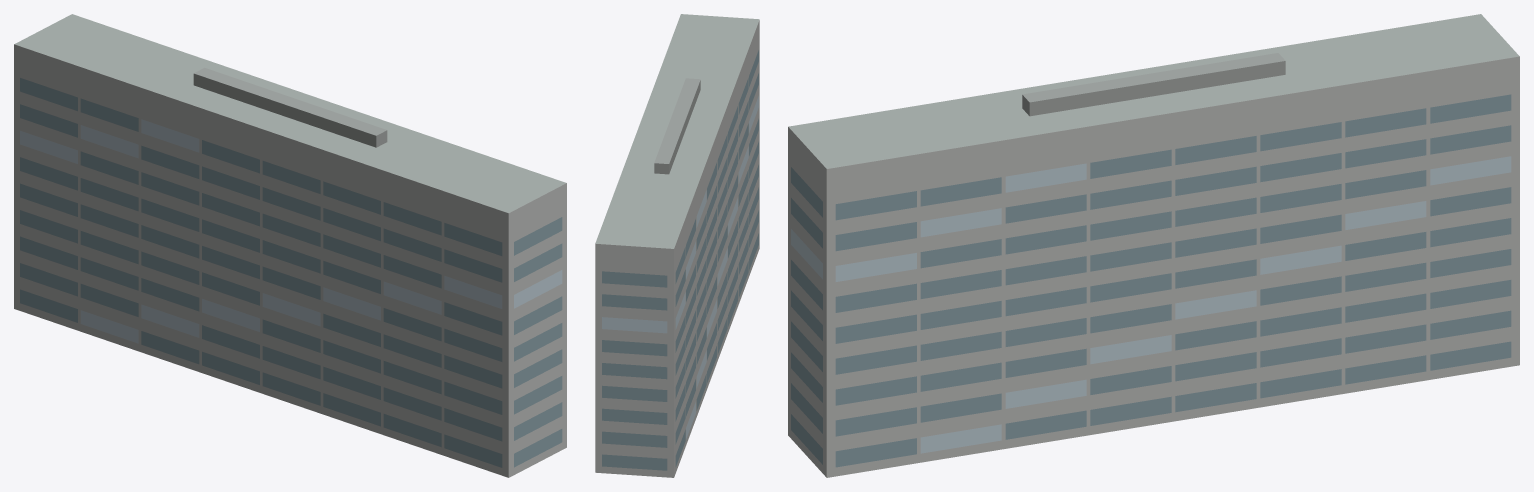
File: fallback-olympic-athletes-village-238.glb
3 renders of one model, left to right at view 1: azimuth 30°, elevation 25°; view 2: azimuth 150°, elevation 25°; view 3: azimuth 270°, elevation 25°, orthographic. The views are drawn at different scales.
Visible parts, largest first — view 1: fallback-olympic-athletes-village-238; view 2: fallback-olympic-athletes-village-238; view 3: fallback-olympic-athletes-village-238.
Part boxes in pixels (left/top/right/bottom): fallback-olympic-athletes-village-238: left=14, top=14, right=566, bottom=477; fallback-olympic-athletes-village-238: left=595, top=14, right=759, bottom=477; fallback-olympic-athletes-village-238: left=788, top=14, right=1519, bottom=477.
Size of the model in its own units: 32.85 by 31.87 by 65.49.
